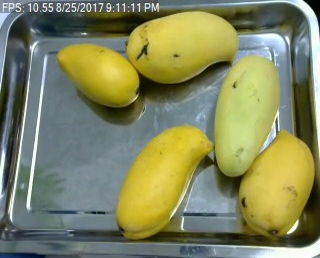Mango: (116, 123, 216, 241), (234, 129, 318, 237), (124, 9, 241, 86), (209, 52, 280, 176), (55, 39, 141, 109)
